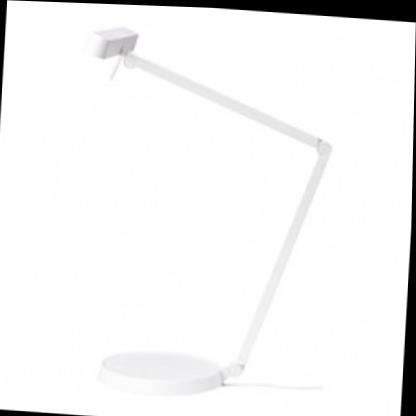Lamp: (43, 4, 343, 416)
